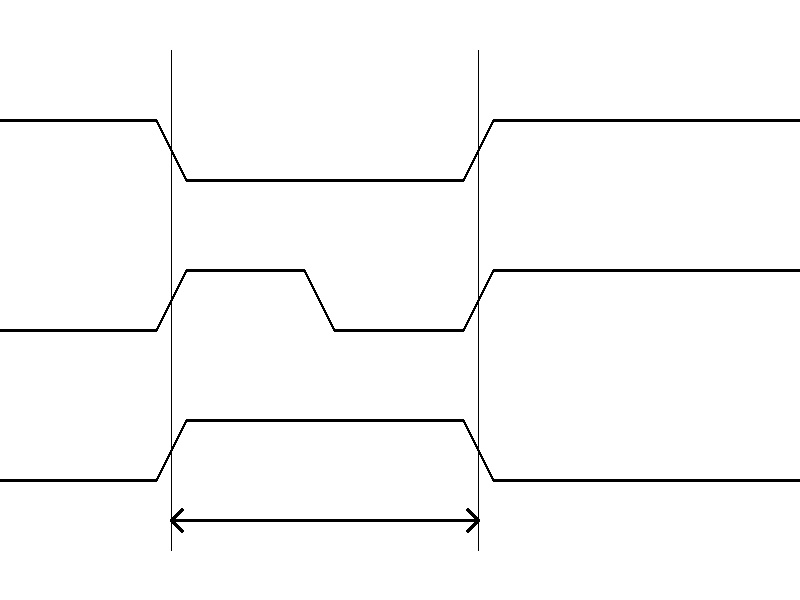double_arrow: (171, 505, 478, 535)
